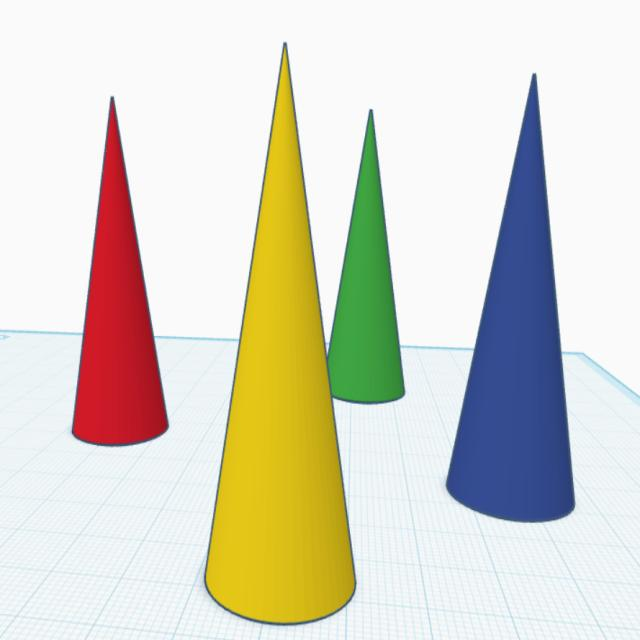cone: (201, 38, 360, 628), (443, 70, 578, 526), (68, 93, 172, 450)
